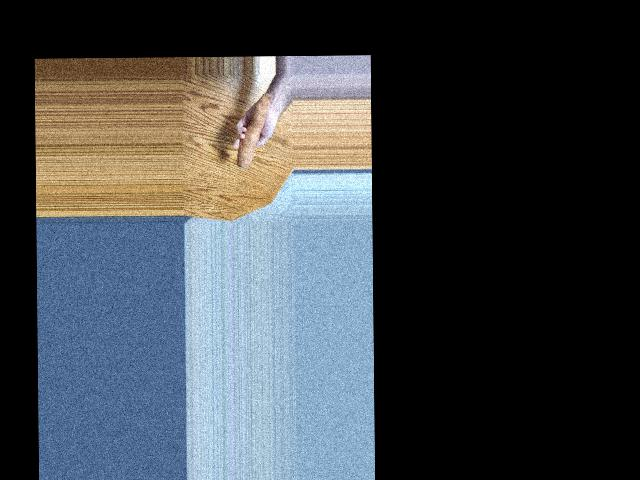sweet_potato: (234, 92, 274, 169)
